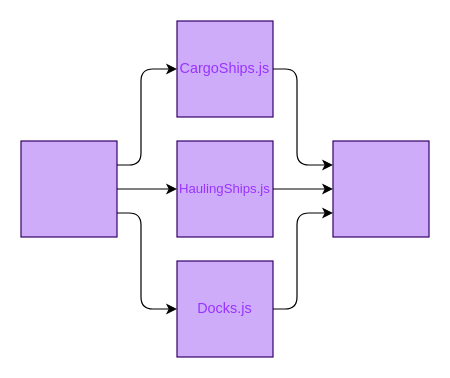
The diagram is 450 pixels wide and 378 high, and some of its shapes have lost their labels. The shapes that lost their labels are listed below. From the top down, each one's box as (x1, y1, x2, y2) in pixels, then its label:
(20, 140, 117, 237): main.js
(332, 140, 429, 237): database.js
